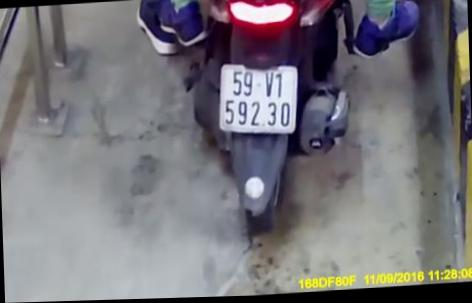LP: (214, 57, 303, 141)
